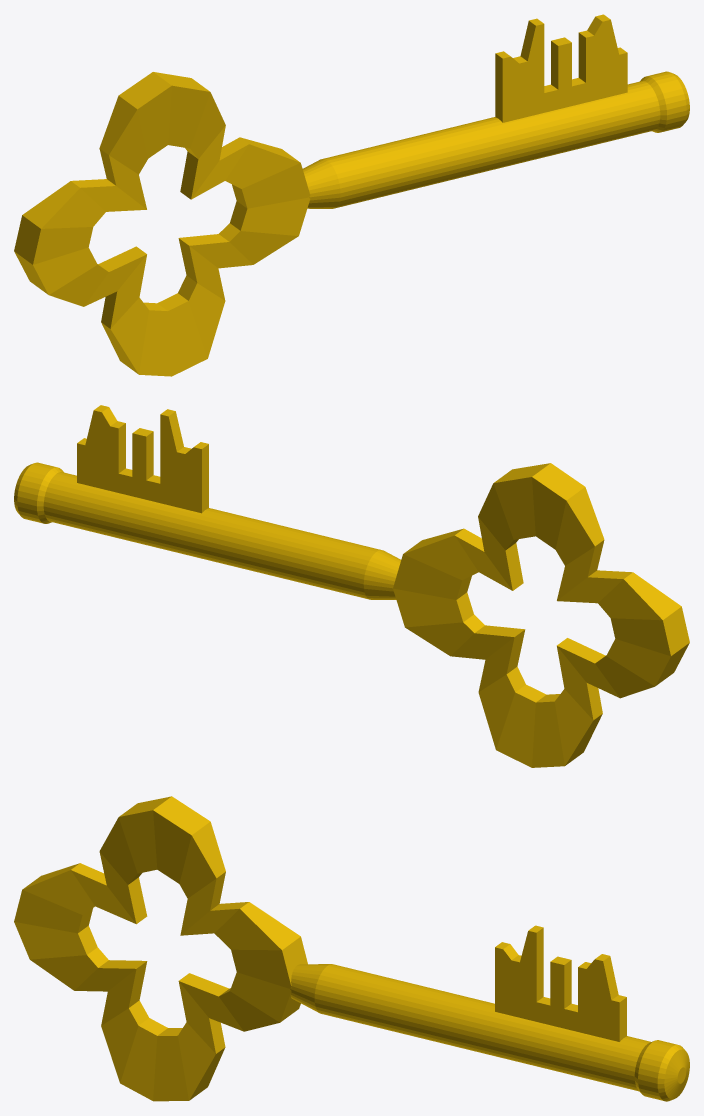
File: keydone.fbx
The picture shows the model from 3 angles, top to bottom: view 1: azimuth 30°, elevation 25°; view 2: azimuth 150°, elevation 25°; view 3: azimuth 330°, elevation 25°; orthographic projection.
Visible parts, largest first — view 1: Circle; view 2: Circle; view 3: Circle.
Part boxes in pixels (<box>): Circle: <box>14,14,689,376</box>; Circle: <box>14,405,689,767</box>; Circle: <box>14,796,689,1101</box>.
Bounding box in the file's own units: 400 × 169 × 30.65.
